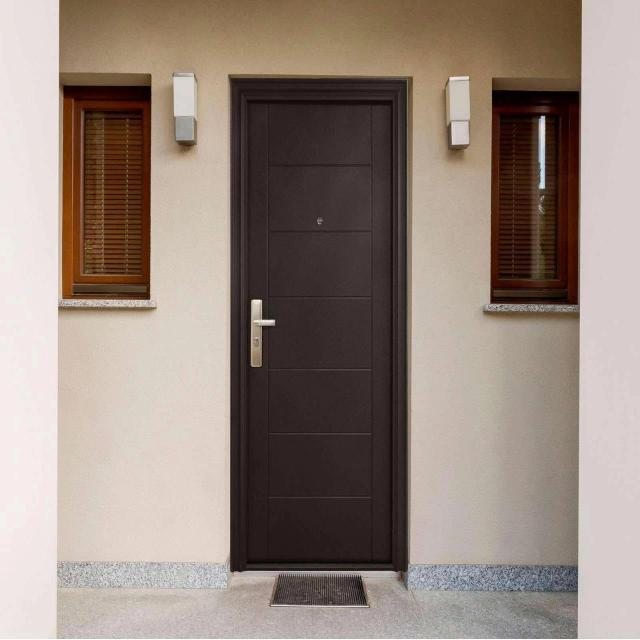door: (232, 76, 406, 572)
